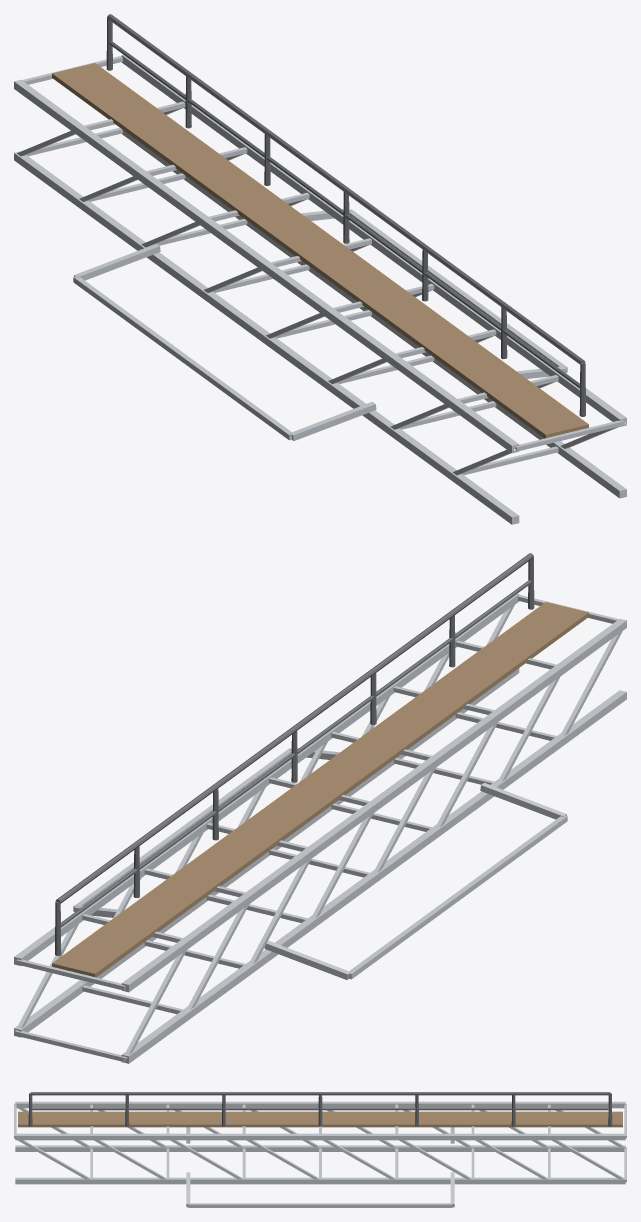
The model's file is steampunk-airship-dock-and-workshop-airship-keel-truss-566216fd__36040.glb.
3 views of the same model, one above another, from view 1: azimuth 30°, elevation 25°; view 2: azimuth 150°, elevation 25°; view 3: azimuth 270°, elevation 25° (orthographic). The views are drawn at different scales.
Parts seen in each view (by area): view 1: airship-keel-truss; view 2: airship-keel-truss; view 3: airship-keel-truss.
Part boxes in pixels (box(x1,y1,x2,y2)): airship-keel-truss: box(14, 14, 626, 524); airship-keel-truss: box(14, 553, 626, 1063); airship-keel-truss: box(14, 1092, 626, 1207).
Bounding box in the file's own units: 3.87 × 1.8 × 12.06.
